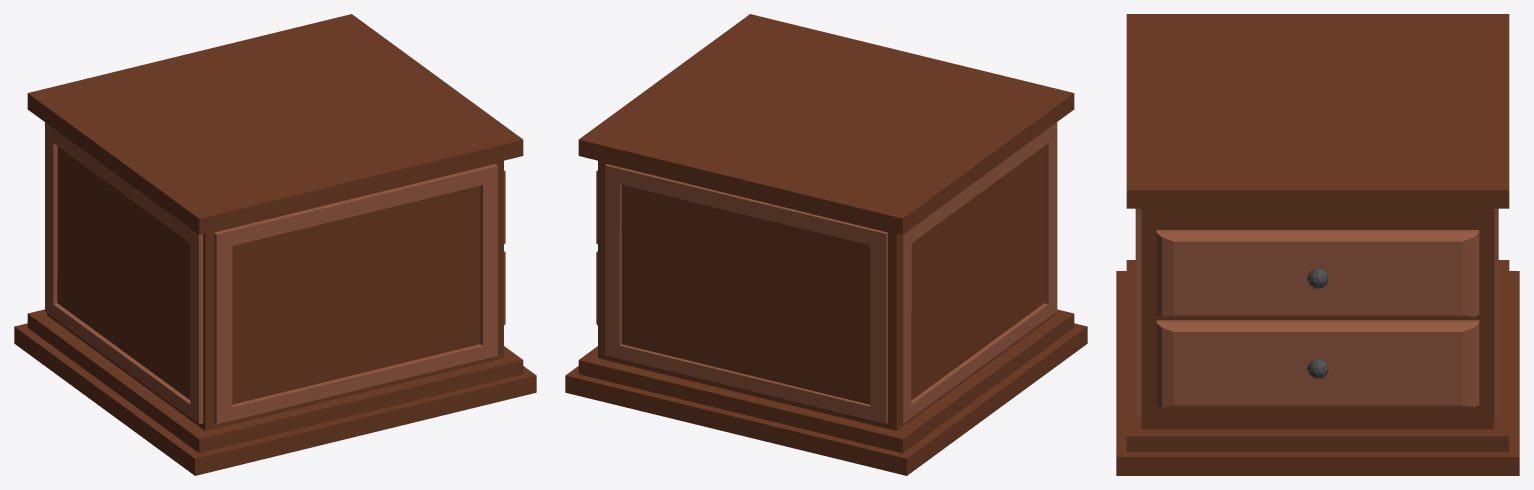
The model's file is Mesa_Lampara.fbx.
3 views of the same model, side by side, from view 1: azimuth 30°, elevation 25°; view 2: azimuth 150°, elevation 25°; view 3: azimuth 270°, elevation 25° (orthographic). The views are drawn at different scales.
Parts seen in each view (by area): view 1: Cube.001; view 2: Cube.001; view 3: Cube.001.
Part boxes in pixels (x1,y1,x2,y2): Cube.001: (14, 14, 536, 475); Cube.001: (565, 14, 1087, 475); Cube.001: (1116, 14, 1519, 475).
Bounding box in the file's own units: 440 × 310 × 403.
